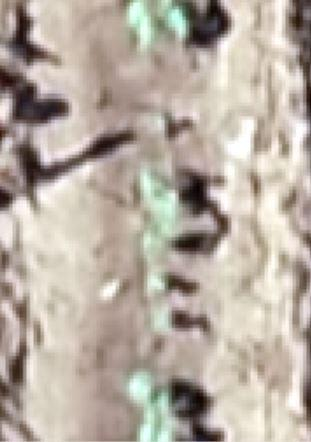cotton: (145, 181, 178, 218), (130, 2, 156, 41), (160, 3, 184, 37), (127, 374, 155, 403), (141, 416, 170, 442), (144, 389, 169, 416), (146, 228, 173, 252), (155, 314, 171, 335), (150, 275, 165, 292)
